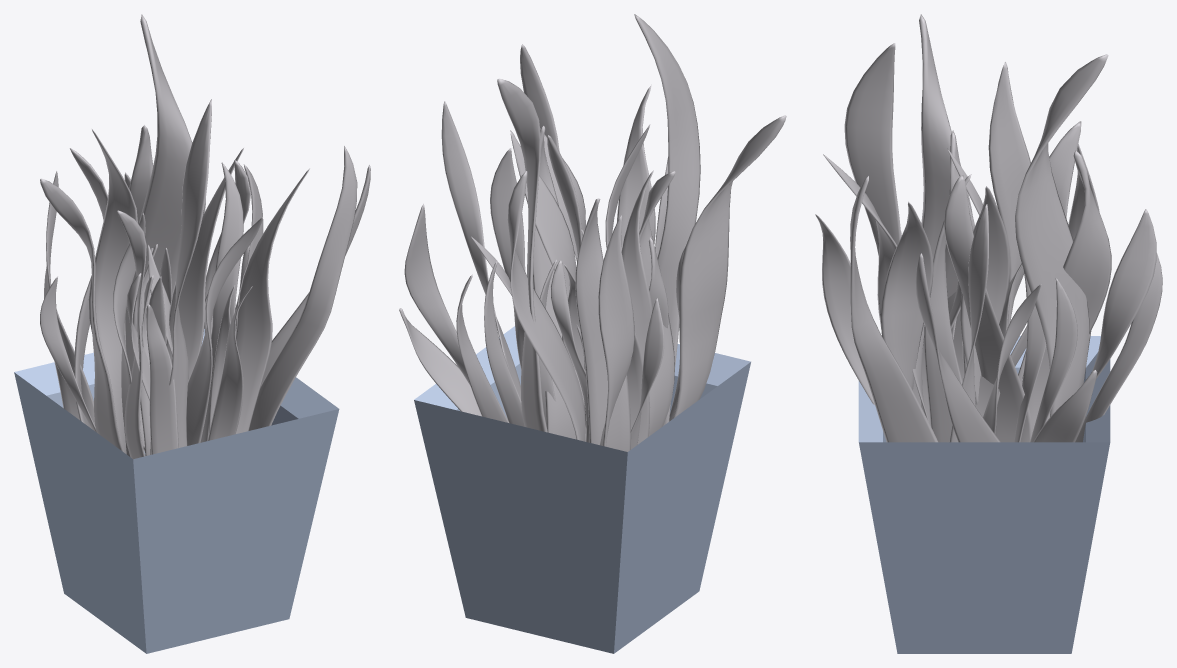
Rendered from Куст.fbx.
3 renders of one model, left to right at view 1: azimuth 30°, elevation 25°; view 2: azimuth 150°, elevation 25°; view 3: azimuth 270°, elevation 25°, orthographic. The views are drawn at different scales.
Visible parts, largest first — view 1: house plant; view 2: house plant; view 3: house plant.
Boxes of the visible parts, bbox=[...] form: house plant: bbox=[14, 14, 370, 653]; house plant: bbox=[399, 14, 786, 653]; house plant: bbox=[815, 14, 1162, 653].
Size of the model in its own units: 321 by 504 by 276.
